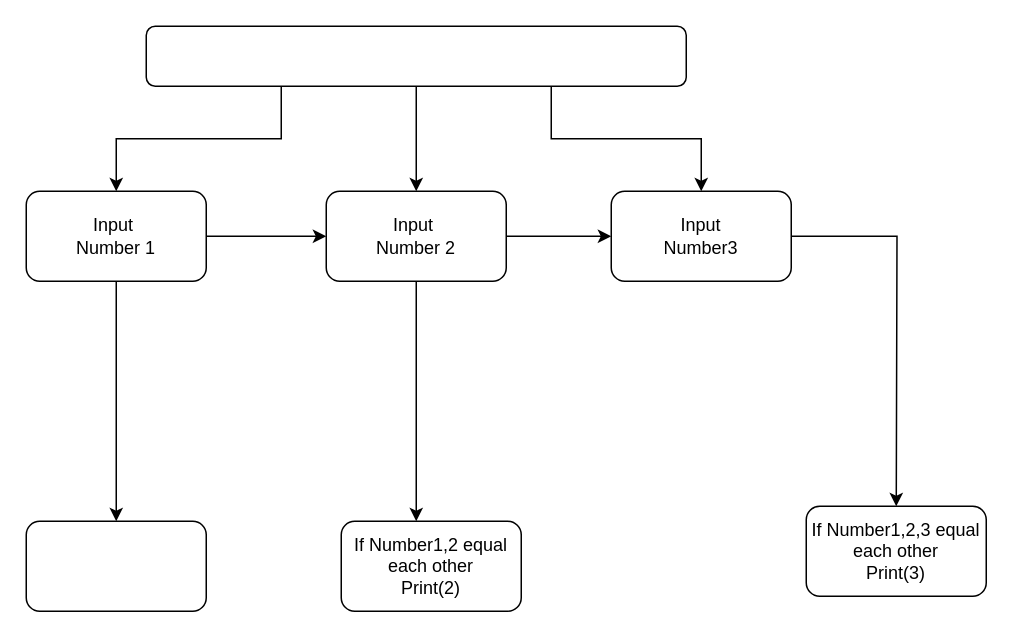
Image size: 1013x638. Some labels were removed from this diagram. Each missing label, with the box of its shape:
Consider how many inputs are needed in the code: (145, 25, 686, 86)
If each number is different Print(0): (25, 520, 206, 611)
